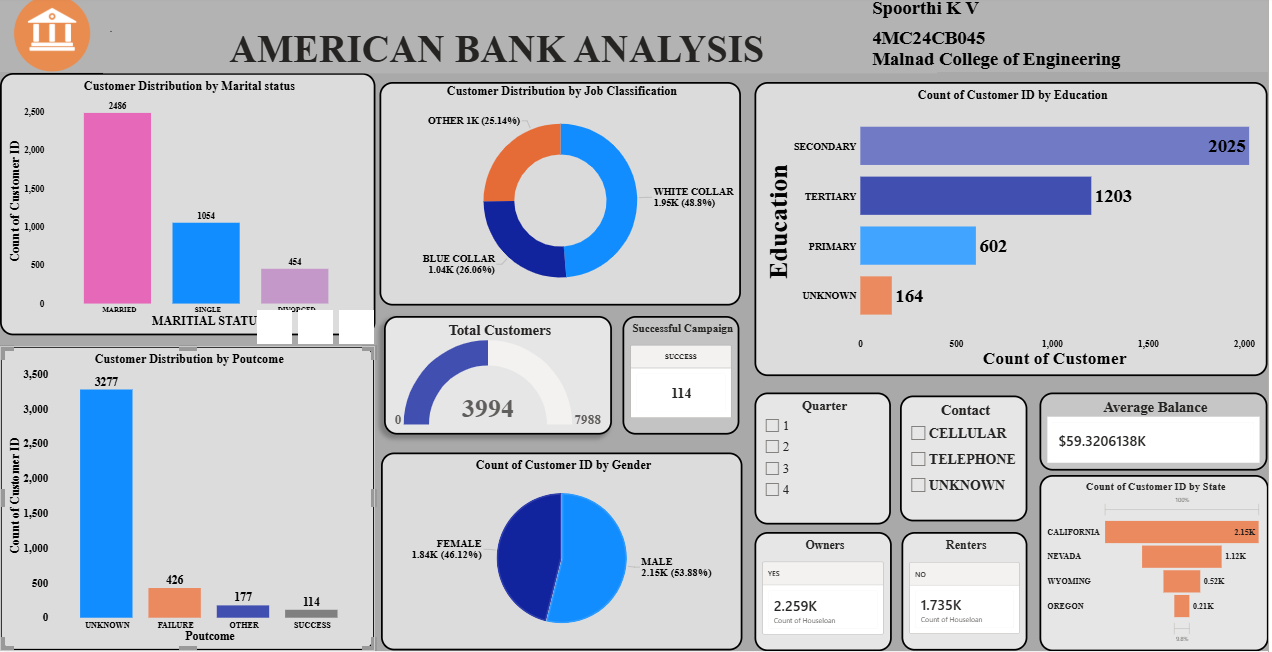

What the dashboard file says about the page in this screenshot:
{"tool":"powerbi","page":{"name":"Page 1","canvas":[2900,1500],"ordinal":0},"visuals":[{"type":"image","title":"AMERICAN BANK","box":[0,0,237.9,175.9],"z":0},{"type":"clusteredBarChart","fields":{"Y":["CountNonNull(AmericaBankNew.Customer ID)"],"Category":["AmericaBankNew.Education"]},"box":[1725.6,199,1173.3,672.4],"z":1000},{"type":"donutChart","title":"Customer Distribution by Job Classification","fields":{"Y":["CountNonNull(AmericaBankNew.Customer ID)"],"Category":["AmericaBankNew.Job Classification"]},"box":[867.9,199,826.8,511.2],"z":2000},{"type":"pieChart","fields":{"Y":["CountNonNull(AmericaBankNew.Customer ID)"],"Category":["AmericaBankNew.Gender"]},"box":[871.4,1046.3,826.8,452.8],"z":3000},{"type":"clusteredColumnChart","title":"Customer Distribution by Marital status","fields":{"Category":["AmericaBankNew.Marital status"],"Y":["CountNonNull(AmericaBankNew.Customer ID)"]},"box":[0,179.3,858.6,600],"z":4000},{"type":"columnChart","title":"Customer Distribution by Poutcome","fields":{"Category":["AmericaBankNew.Poutcome"],"Y":["CountNonNull(AmericaBankNew.Customer ID)"]},"box":[0,802.8,857.7,696.4],"z":5000},{"type":"textbox","box":[237.9,0,1906.9,179.3],"z":6000},{"type":"textbox","box":[1989.7,0,910.3,175.9],"z":7000},{"type":"gauge","title":"Total Customers","fields":{"Y":["CountNonNull(AmericaBankNew.Customer ID)"]},"box":[878.2,734.2,521.5,271],"z":8000},{"type":"slicer","title":"Contact","fields":{"Values":["AmericaBankNew.Contact"]},"box":[2058.4,916,291.6,288.2],"z":9000},{"type":"slicer","title":"Quarter","fields":{"Values":["AmericaBankNew.Quarter"]},"box":[1725.6,909.1,312.2,301.9],"z":10000},{"type":"cardVisual","title":"Owners","fields":{"Rows":["AmericaBankNew.Houseloan"],"Data":["CountNonNull(AmericaBankNew.Houseloan)"]},"box":[1724.1,1227.6,313.8,272.4],"z":11000},{"type":"cardVisual","title":"Renters","fields":{"Rows":["AmericaBankNew.Houseloan"],"Data":["CountNonNull(AmericaBankNew.Houseloan)"]},"box":[2061.8,1228.2,288.2,271],"z":12000},{"type":"funnel","fields":{"Category":["AmericaBankNew.State"],"Y":["CountNonNull(AmericaBankNew.Customer ID)"]},"box":[2375.9,1096.6,524.1,403.4],"z":13000},{"type":"cardVisual","title":"Average Balance","fields":{"Data":["Avg(AmericaBankNew.Balance)"]},"box":[2377.4,909.1,521.5,178.4],"z":14000},{"type":"cardVisual","title":"Successful Campaign","fields":{"Data":["CountNonNull(AmericaBankNew.Customer ID)"],"Rows":["AmericaBankNew.Poutcome"]},"box":[1423.7,734.2,267.6,271],"z":15000}]}

Visuals, with their boxes in screenshot pixels (x1, y1, x2, y2), scaled from the page's 2900x1500 canvas onto the 1272x652 screenshot:
"AMERICAN BANK" image: Rect(0, 0, 104, 76)
clusteredBarChart - CountNonNull(AmericaBankNew.Customer ID) x AmericaBankNew.Education: Rect(757, 86, 1271, 379)
"Customer Distribution by Job Classification" donutChart: Rect(381, 86, 743, 309)
pieChart - CountNonNull(AmericaBankNew.Customer ID) x AmericaBankNew.Gender: Rect(382, 455, 745, 651)
"Customer Distribution by Marital status" clusteredColumnChart: Rect(0, 78, 377, 339)
"Customer Distribution by Poutcome" columnChart: Rect(0, 349, 376, 651)
textbox: Rect(104, 0, 941, 78)
textbox: Rect(873, 0, 1271, 76)
"Total Customers" gauge: Rect(385, 319, 614, 437)
"Contact" slicer: Rect(903, 398, 1031, 523)
"Quarter" slicer: Rect(757, 395, 894, 526)
"Owners" cardVisual: Rect(756, 534, 894, 651)
"Renters" cardVisual: Rect(904, 534, 1031, 651)
funnel - AmericaBankNew.State x CountNonNull(AmericaBankNew.Customer ID): Rect(1042, 477, 1271, 651)
"Average Balance" cardVisual: Rect(1043, 395, 1271, 473)
"Successful Campaign" cardVisual: Rect(624, 319, 742, 437)
